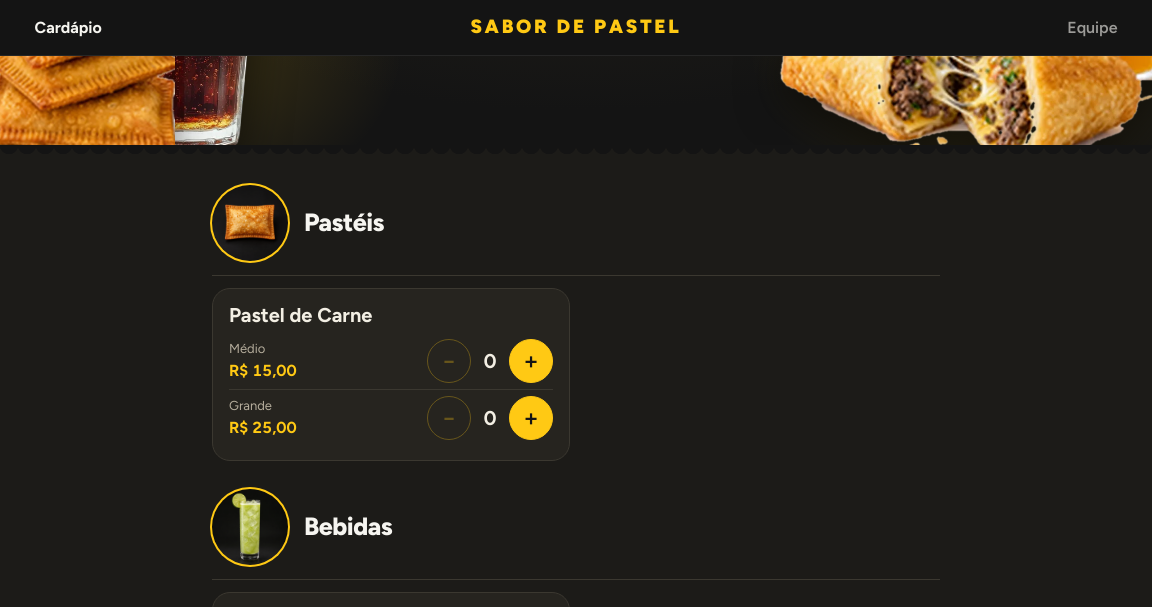
Test: lembra telefone e endereço do último pedido
The image size is (1152, 607).
(page scrolled)
Expected: the text "Pastel de Carne" is shown, [229,303,372,327]
Click the button named "Aumentar Pastel de Carne M": {"x": 531, "y": 361} [509,339,553,383]
(page scrolled)
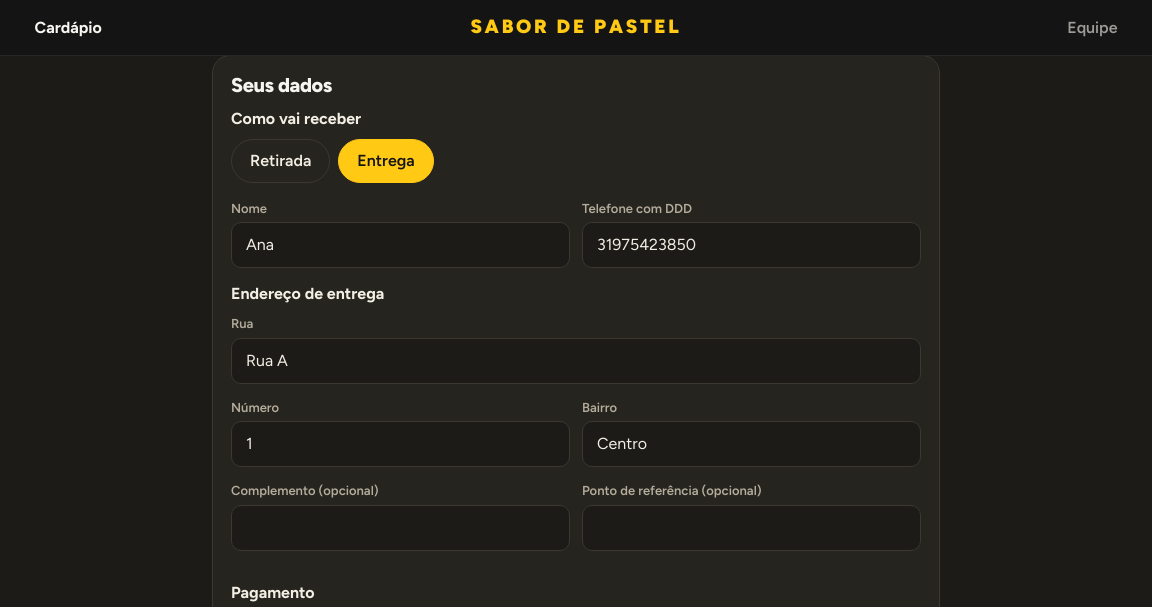
Expected: the field labelled "Telefone com DDD" holds "31975423850", [582,222,921,268]
Expected: the field labelled "Rua" holds "Rua A", [231,338,921,384]
